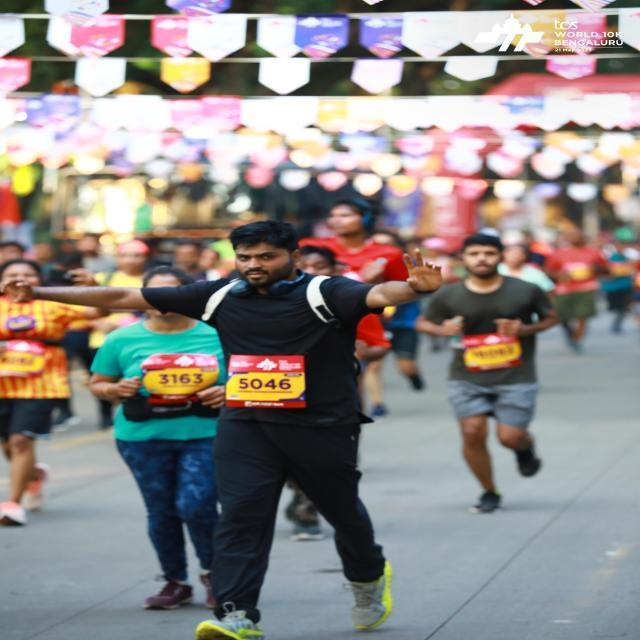dorsal: (220, 354, 312, 409), (139, 350, 214, 398)
